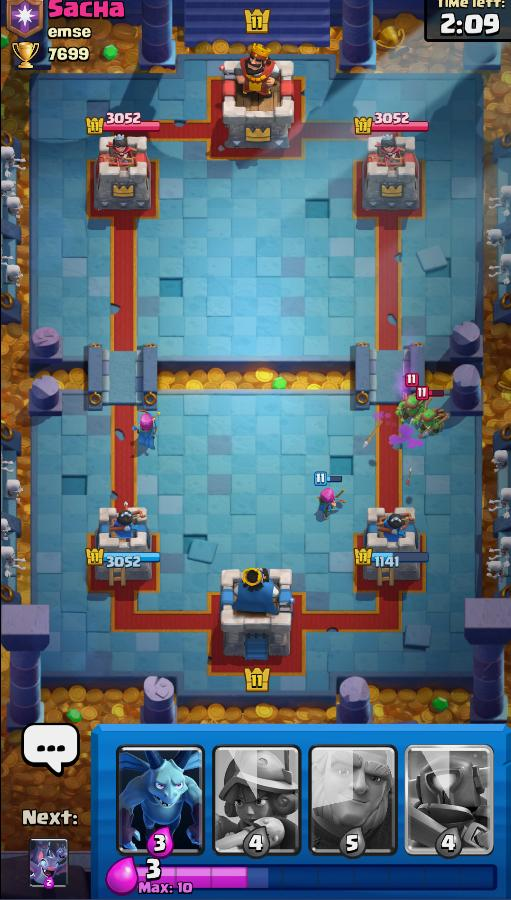archere: (136, 409, 161, 454), (317, 486, 344, 521)
gobelin_lances: (417, 404, 453, 436)
